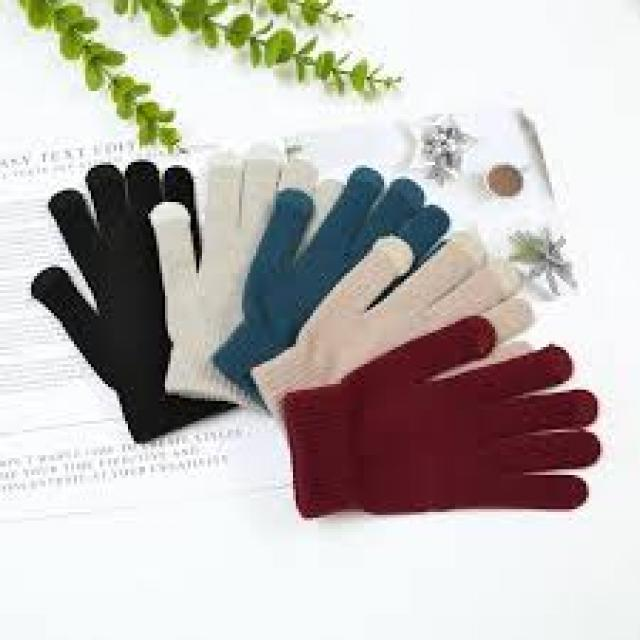Clothes -Biodegradable-: (31, 151, 602, 526)
